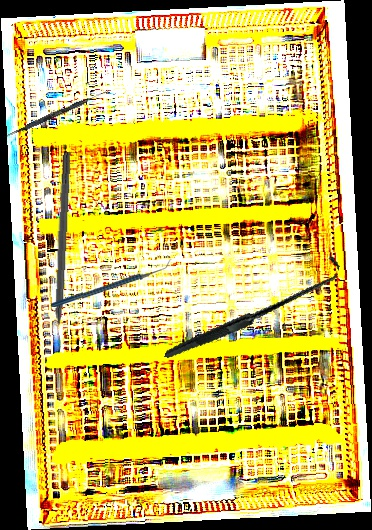Chopper: (50, 256, 173, 310)
Hook Surgical: (164, 221, 342, 395), (50, 151, 72, 350)
Spatula Surgical: (3, 86, 110, 142)
